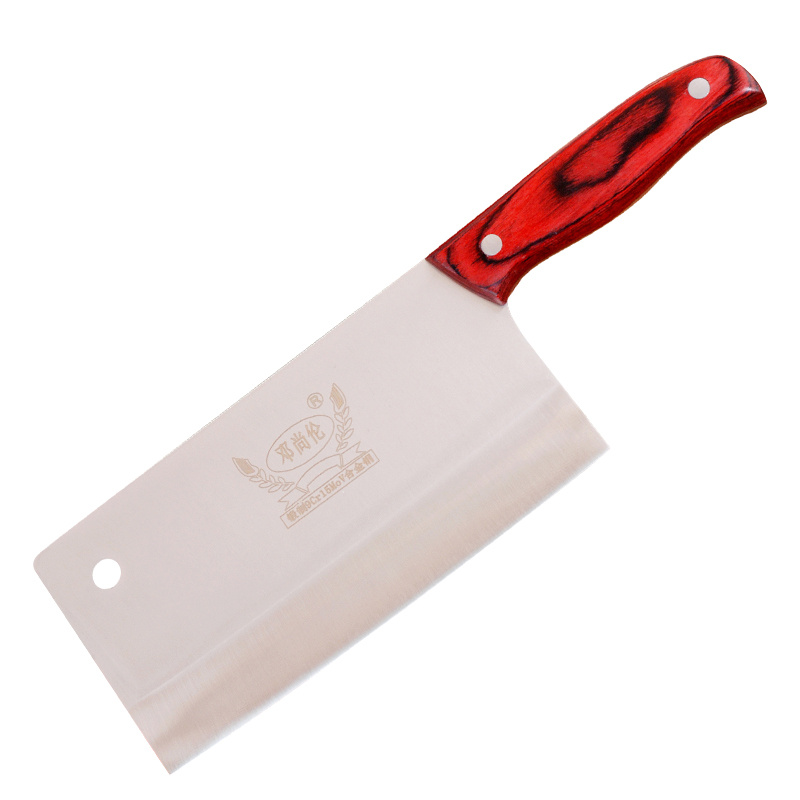knief: (68, 52, 768, 735)
